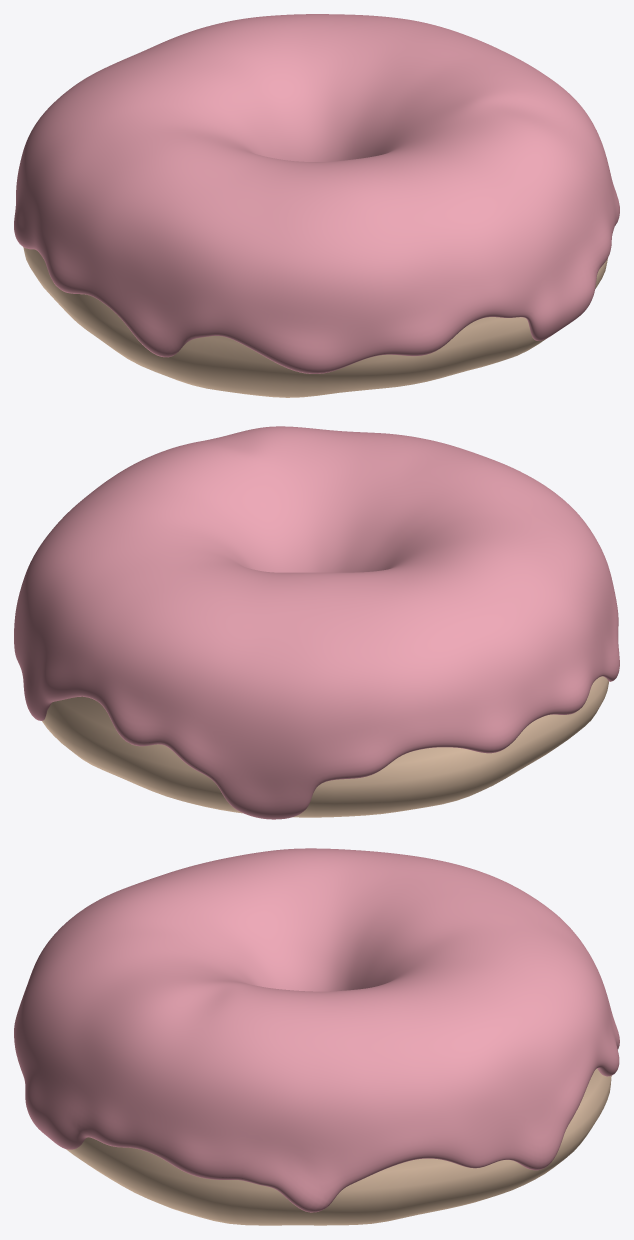
File: Donut.glb
3 renders of one model, top to bottom at view 1: azimuth 30°, elevation 25°; view 2: azimuth 150°, elevation 25°; view 3: azimuth 270°, elevation 25°, orthographic.
Parts seen in each view (by area): view 1: Icing, Donut; view 2: Icing, Donut; view 3: Icing, Donut.
Part boxes in pixels (x1,y1,x2,y2): Icing: (14,14,619,373); Donut: (23,247,607,397); Icing: (14,426,619,819); Donut: (42,676,608,817); Icing: (14,848,619,1212); Donut: (66,1068,611,1225).
Size of what is drawn, in the model's own units: 0.1082 by 0.042 by 0.1081.
